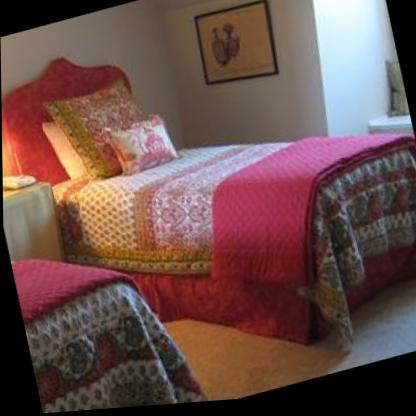Bed: (1, 59, 416, 352)
